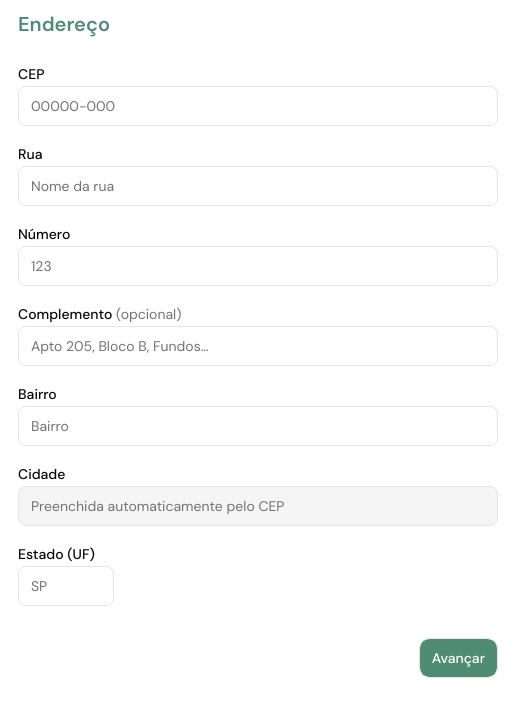
it: ContratarPageClient — passo 0 dry-run validation › should display field error and stay on step 0 when validateClientUseCase throws ValidationError
(page scrolled)
Click the button "Avançar" at (458, 658), box [419,638,498,678]
(page scrolled)
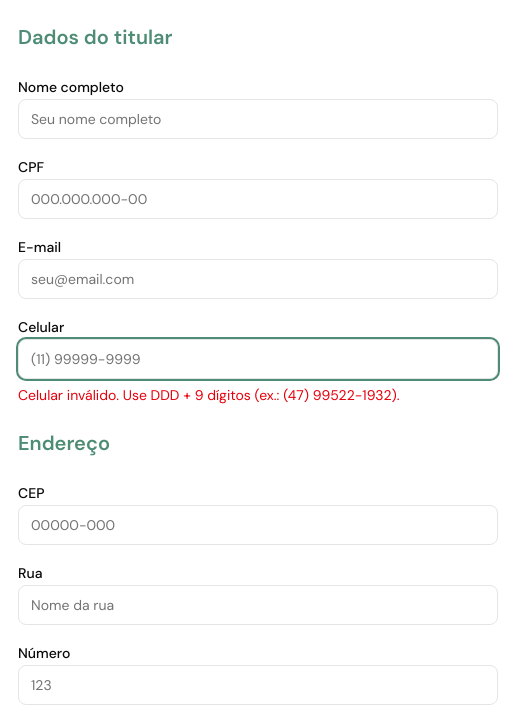
Expected: the heading "Dados do titular" is shown, [18,24,172,50]
Result: the message "Celular inválido. Use DDD + 9 dígitos (ex.: (47) 99522-1932)." is shown at [18,386,400,404]
